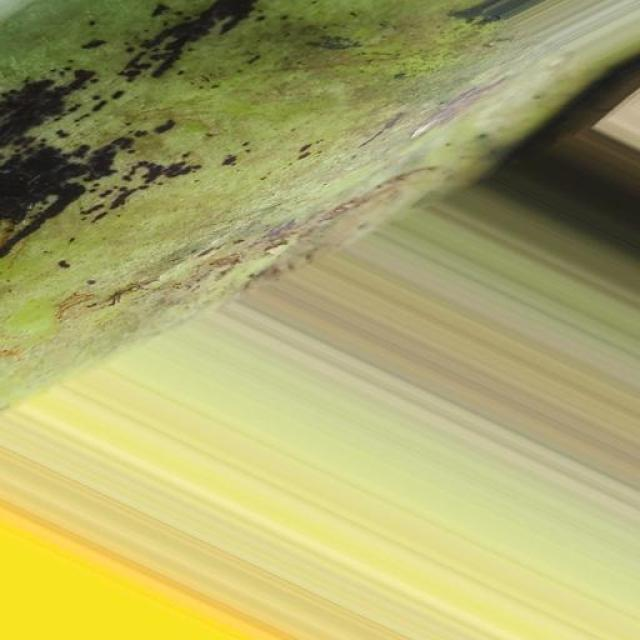Anthracnose: (2, 0, 640, 453)
